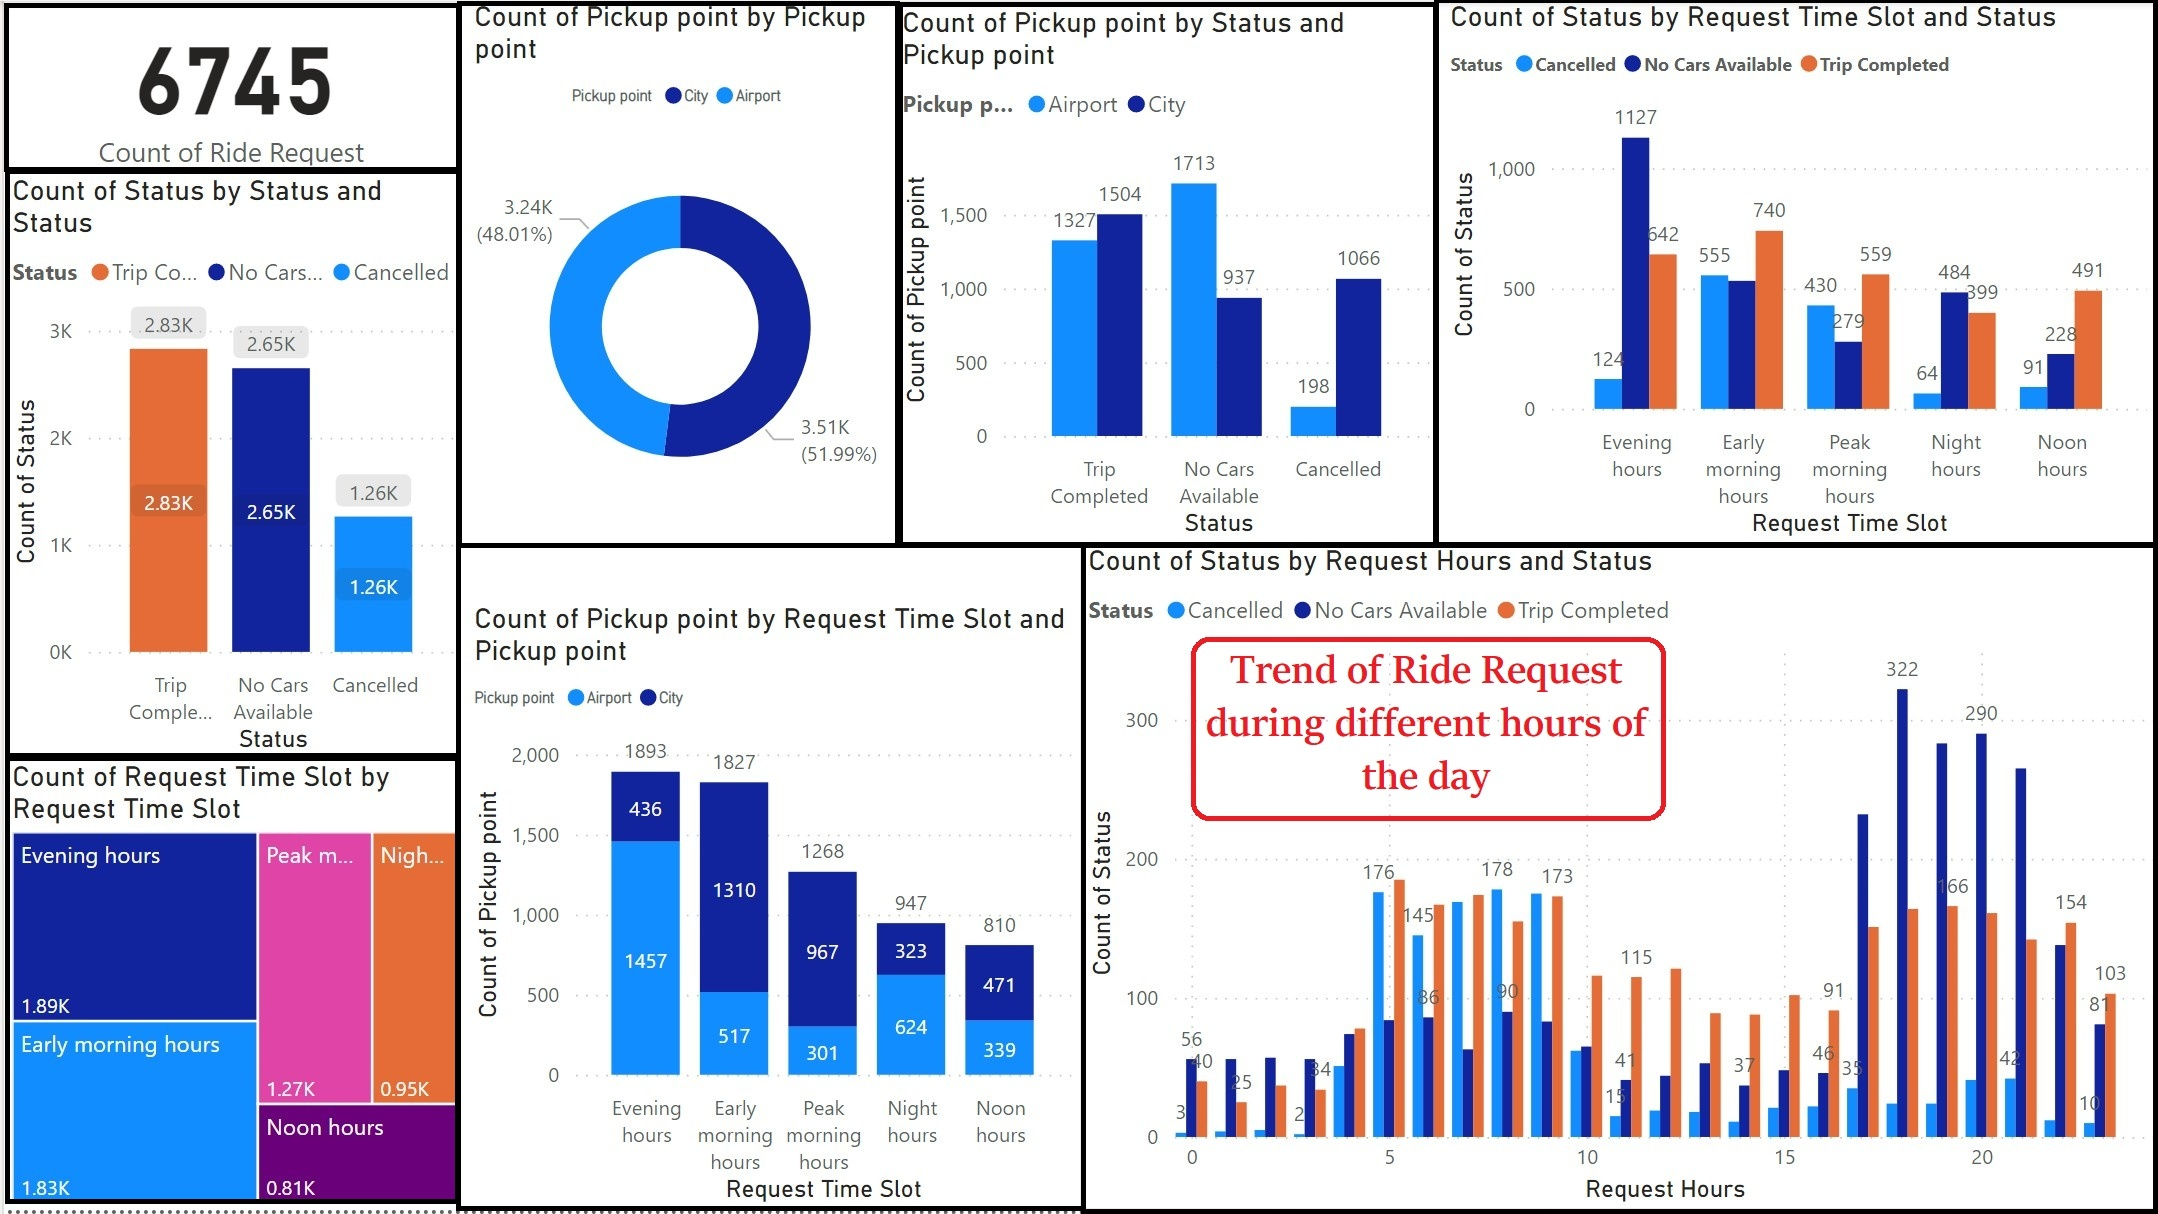

Layout of this report page (visuals, bound fields, positions):
{"tool":"powerbi","page":{"name":"Overview: What is data telling","canvas":[1280,720],"ordinal":0},"visuals":[{"type":"donutChart","fields":{"Category":["uber_EDA_update.Pickup point"],"Y":["CountNonNull(uber_EDA_update.Pickup point)"]},"box":[275.1,0,254.8,323.9],"z":0},{"type":"columnChart","fields":{"Category":["uber_EDA_update.Status"],"Y":["CountNonNull(uber_EDA_update.Status)"],"Series":["uber_EDA_update.Status"]},"box":[0,103.6,275.1,348.9],"z":1000},{"type":"treemap","fields":{"Group":["uber_EDA_update.Request Time Slot"],"Values":["CountNonNull(uber_EDA_update.Request Time Slot)"]},"box":[0,452.5,275.1,269.1],"z":2000},{"type":"card","fields":{"Values":["CountNonNull(uber_EDA_update.Pickup point)"]},"box":[0,0,275.1,103.6],"z":3000},{"type":"clusteredColumnChart","fields":{"Category":["uber_EDA_update.Request Hours"],"Series":["uber_EDA_update.Status"],"Y":["CountNonNull(uber_EDA_update.Status)"]},"box":[640.6,323.9,645.4,396.5],"z":4000},{"type":"columnChart","fields":{"Category":["uber_EDA_update.Request Time Slot"],"Y":["CountNonNull(uber_EDA_update.Pickup point)"],"Series":["uber_EDA_update.Pickup point"]},"box":[275.1,358.4,365.5,362],"z":5000},{"type":"clusteredColumnChart","fields":{"Category":["uber_EDA_update.Request Time Slot"],"Y":["CountNonNull(uber_EDA_update.Status)"],"Series":["uber_EDA_update.Status"]},"box":[856.1,0,425.1,323.9],"z":6000},{"type":"clusteredColumnChart","fields":{"Category":["uber_EDA_update.Status"],"Y":["CountNonNull(uber_EDA_update.Pickup point)"],"Series":["uber_EDA_update.Pickup point"]},"box":[529.9,3.6,326.3,320.3],"z":7000}]}

Visuals, with their boxes in screenshot pixels (x1, y1, x2, y2), scaled from the page's 1280x720 canvas onto the 2158x1214 screenshot:
donutChart - uber_EDA_update.Pickup point x CountNonNull(uber_EDA_update.Pickup point): <region>464, 0, 893, 546</region>
columnChart - uber_EDA_update.Status x CountNonNull(uber_EDA_update.Status): <region>0, 175, 464, 763</region>
treemap - uber_EDA_update.Request Time Slot x CountNonNull(uber_EDA_update.Request Time Slot): <region>0, 763, 464, 1213</region>
card - CountNonNull(uber_EDA_update.Pickup point): <region>0, 0, 464, 175</region>
clusteredColumnChart - uber_EDA_update.Request Hours x uber_EDA_update.Status: <region>1080, 546, 2157, 1213</region>
columnChart - uber_EDA_update.Request Time Slot x CountNonNull(uber_EDA_update.Pickup point): <region>464, 604, 1080, 1213</region>
clusteredColumnChart - uber_EDA_update.Request Time Slot x CountNonNull(uber_EDA_update.Status): <region>1443, 0, 2157, 546</region>
clusteredColumnChart - uber_EDA_update.Status x CountNonNull(uber_EDA_update.Pickup point): <region>893, 6, 1443, 546</region>
